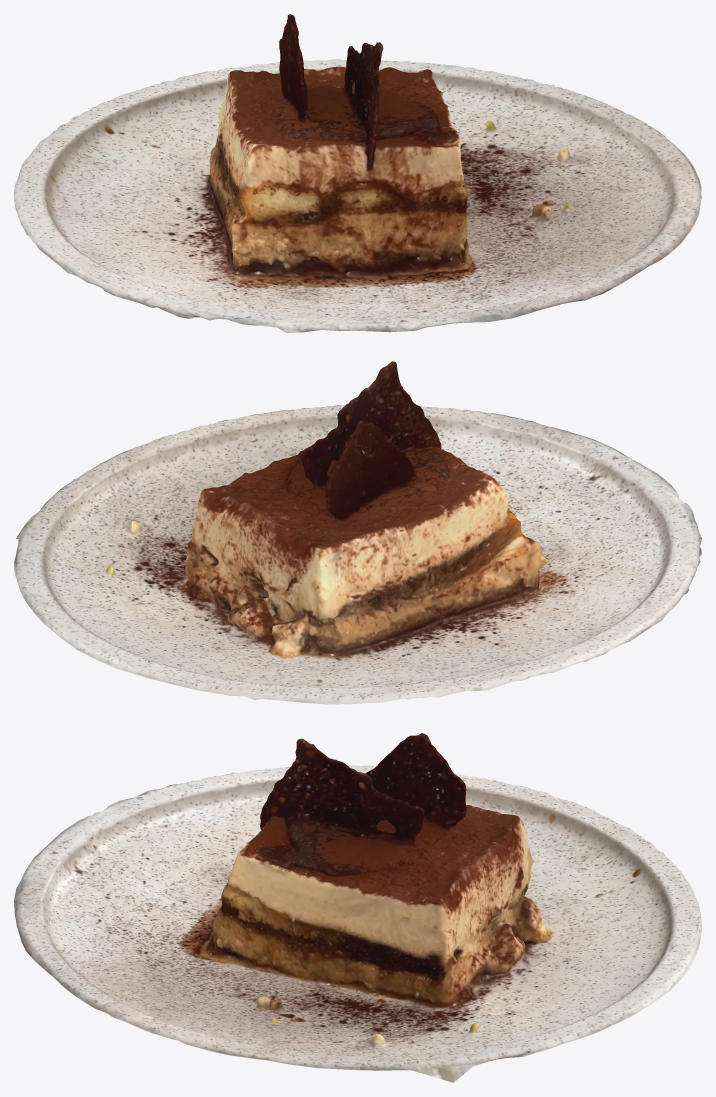
The model's file is tiramisu.glb.
The picture shows the model from 3 angles, top to bottom: view 1: azimuth 30°, elevation 25°; view 2: azimuth 150°, elevation 25°; view 3: azimuth 270°, elevation 25°; orthographic projection.
Parts seen in each view (by area): view 1: Object_2; view 2: Object_2; view 3: Object_2.
Part boxes in pixels (x1=…): Object_2: x1=14, y1=14, x2=701, y2=332; Object_2: x1=14, y1=361, x2=701, y2=704; Object_2: x1=14, y1=733, x2=701, y2=1082.
Bounding box in the file's own units: 147 × 47.81 × 146.
Materials: 1 (1 with a texture image).
